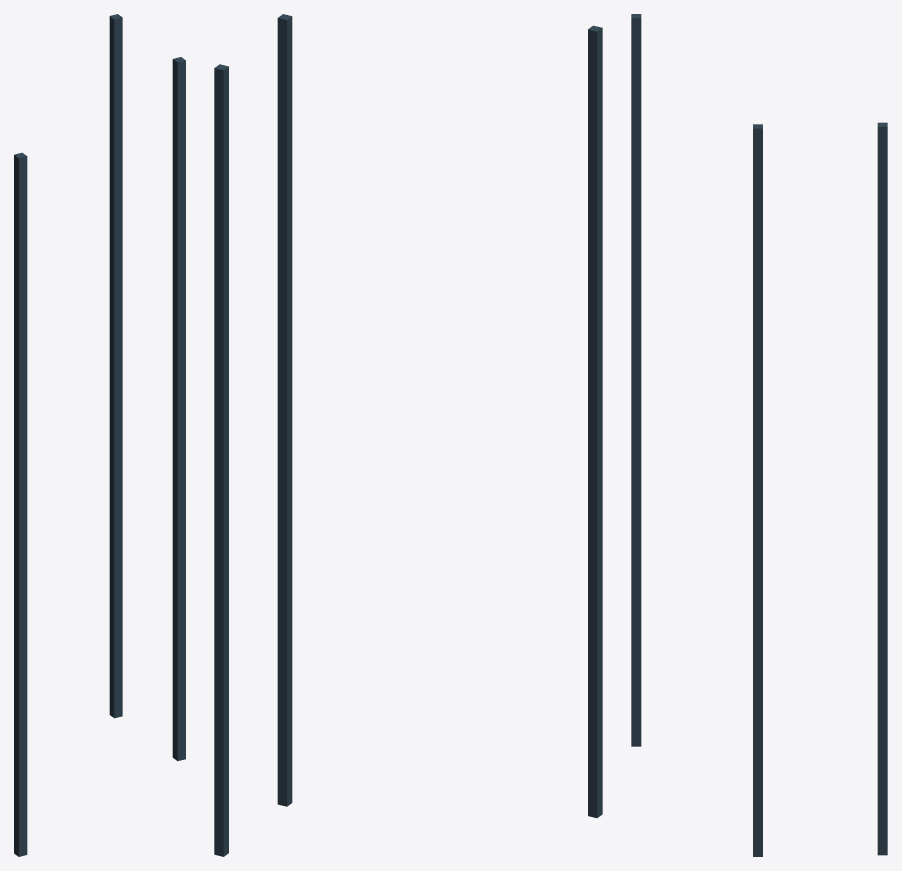
The model's file is v02-transit-world-03-01-08.glb.
3 renders of one model, left to right at view 1: azimuth 30°, elevation 25°; view 2: azimuth 150°, elevation 25°; view 3: azimuth 270°, elevation 25°, orthographic. The views are drawn at different scales.
Visible parts, largest first — view 1: v02-transit-world-03-01-08; view 2: v02-transit-world-03-01-08; view 3: v02-transit-world-03-01-08.
Boxes of the visible parts, bbox=[...] form: v02-transit-world-03-01-08: bbox=[14, 14, 185, 856]; v02-transit-world-03-01-08: bbox=[214, 14, 602, 856]; v02-transit-world-03-01-08: bbox=[631, 14, 887, 856].
Bounding box in the file's own units: 32.5 × 96.25 × 30.7.
